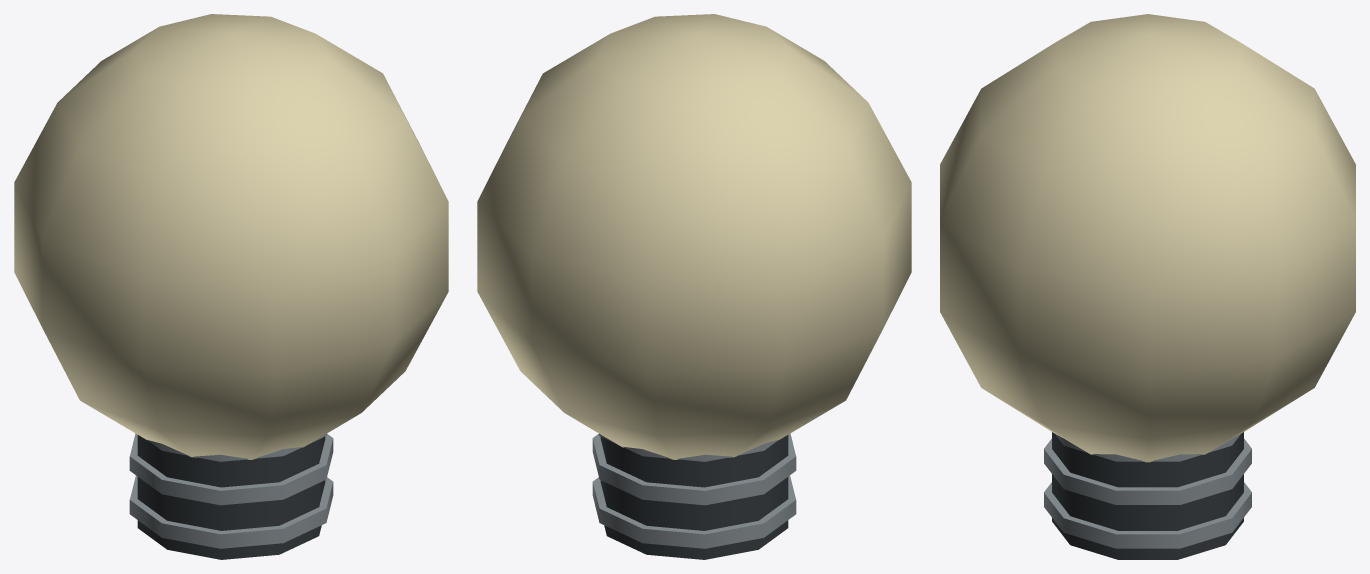
Rendered from glass_bulb.glb.
The picture shows the model from 3 angles, left to right: view 1: azimuth 30°, elevation 25°; view 2: azimuth 150°, elevation 25°; view 3: azimuth 270°, elevation 25°; orthographic projection.
Visible parts, largest first — view 1: glass_bulb; view 2: glass_bulb; view 3: glass_bulb.
Boxes of the visible parts, x1,y1,x2,y2 form: glass_bulb: (14, 14, 448, 559); glass_bulb: (477, 14, 911, 559); glass_bulb: (940, 14, 1355, 559).
Size of the model in its own units: 0.0546 by 0.067 by 0.0519.
